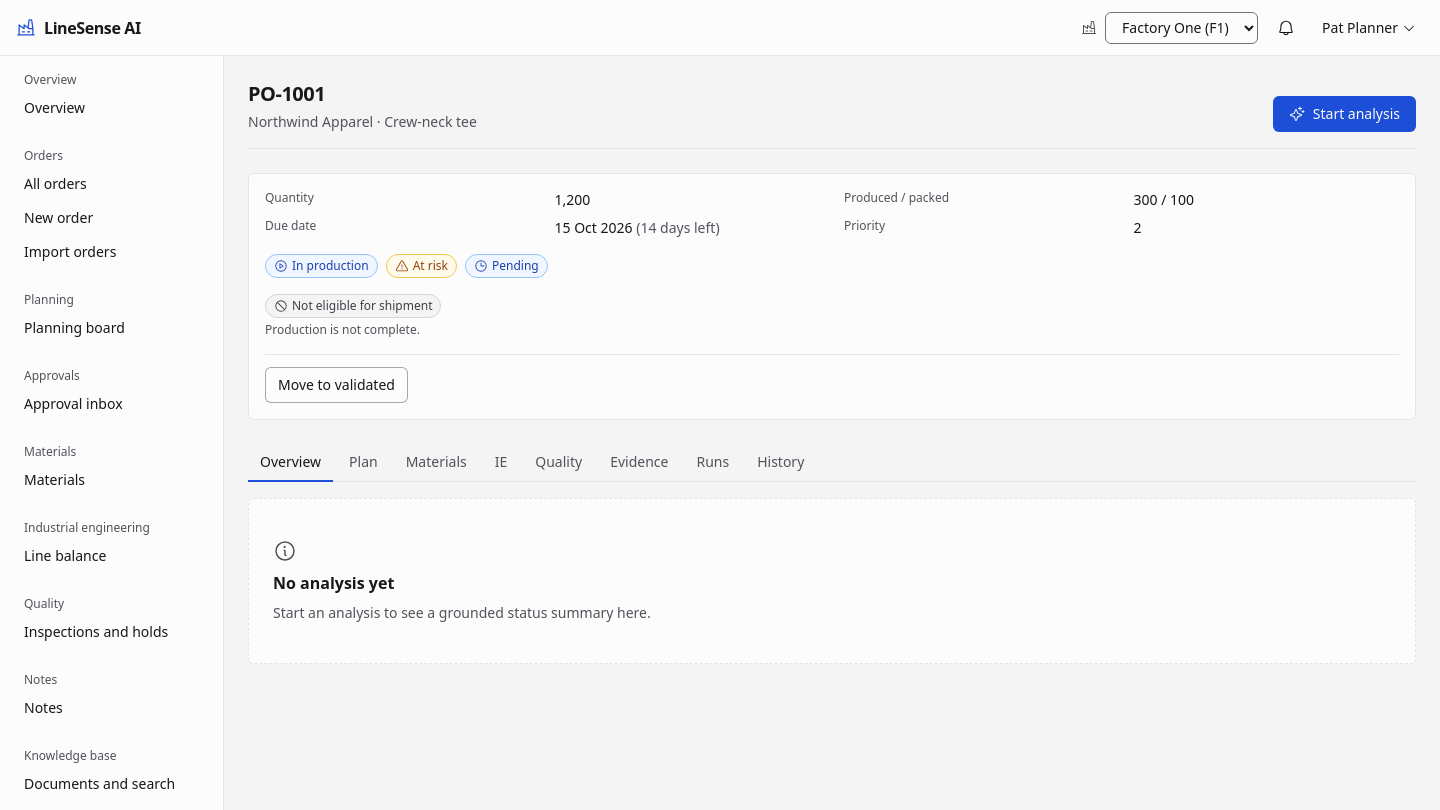
OrderDetailPage › shows a stale banner when a transition returns 409 STALE_INPUT
Click the button "Move to validated" at (336,385), box [265,367,408,403]
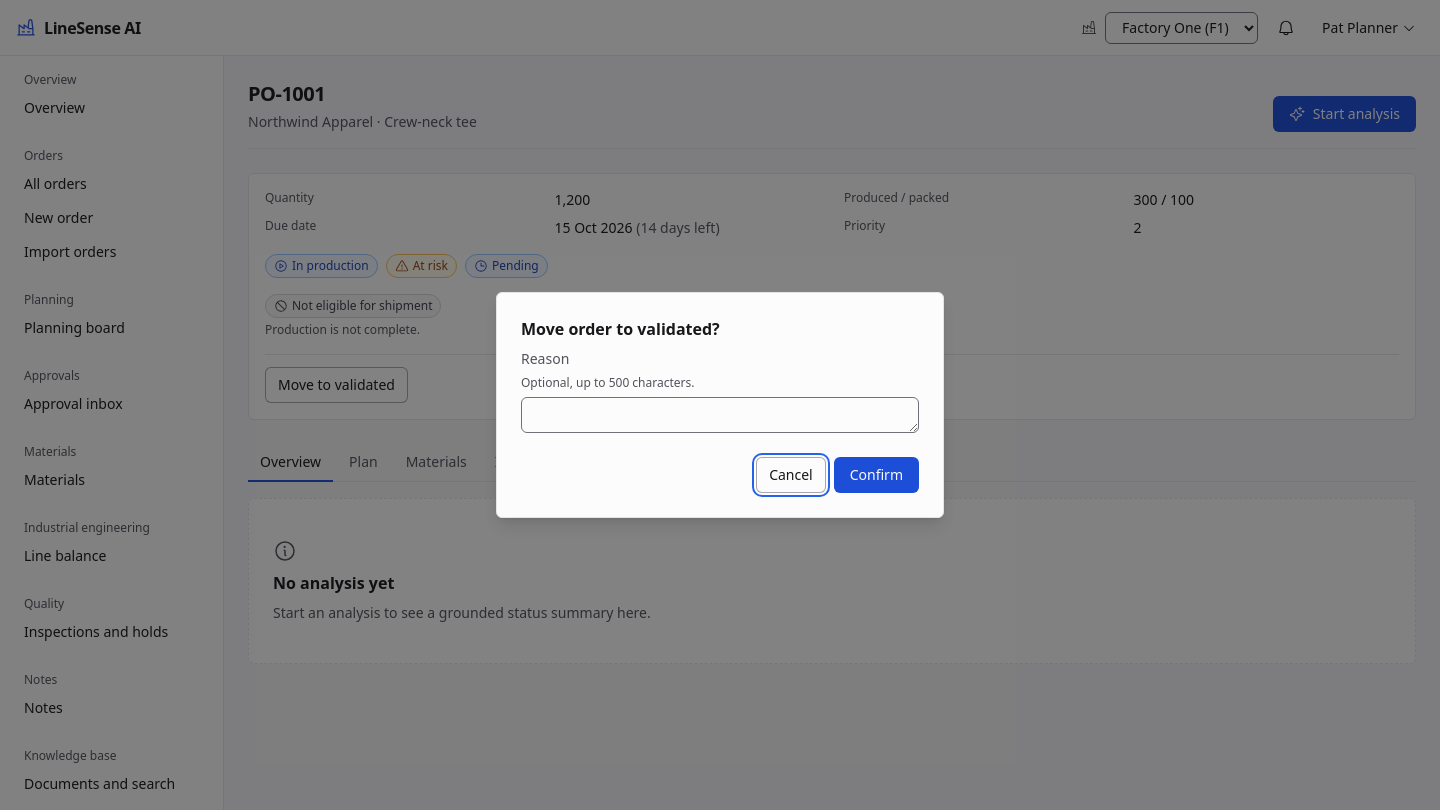
Click the button "Confirm" at (876,475), box [834,457,919,493]
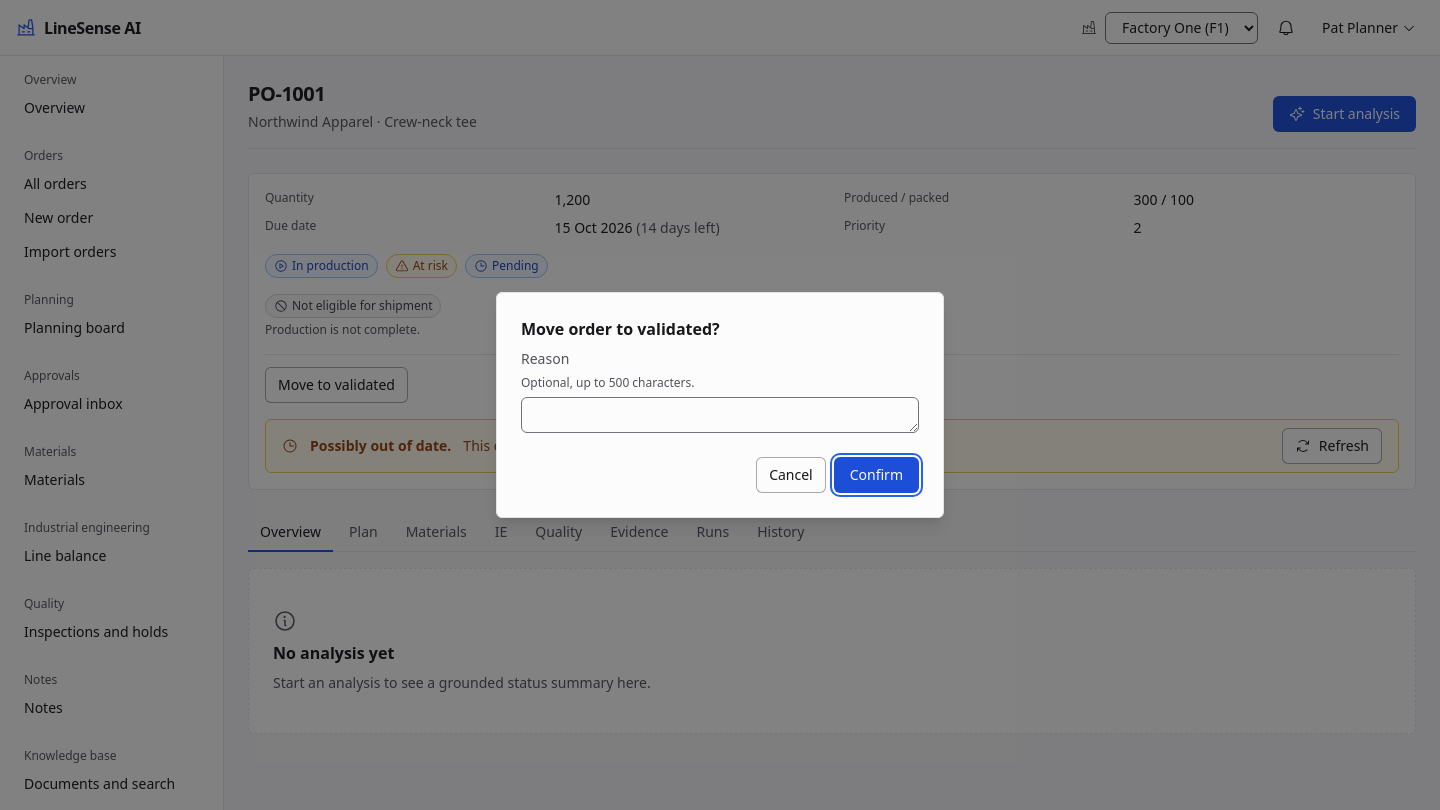
Now the text "Possibly out of date." is shown, box [310,436,451,456]
Now the text "This order has changed." is shown, box [463,436,621,456]
